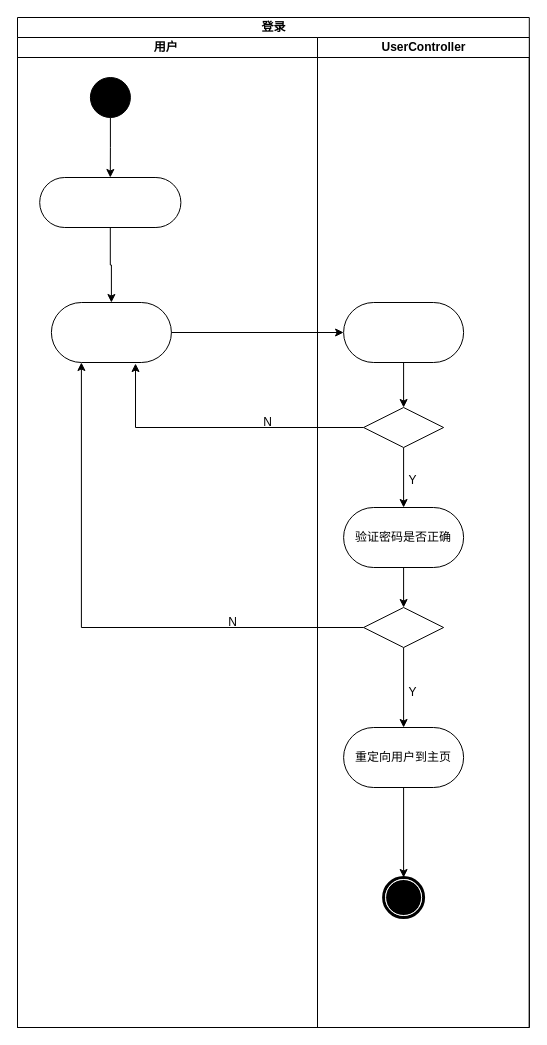
Some shapes in this 547 by 1045 pixel diagram are drawn without their labels. The centre of each missing label's shape, as x and y in pixels:
填写用户名、密码: [110,332]
系统验证输入的用户名是否存在: [403,332]
进入登录界面: [110,202]
